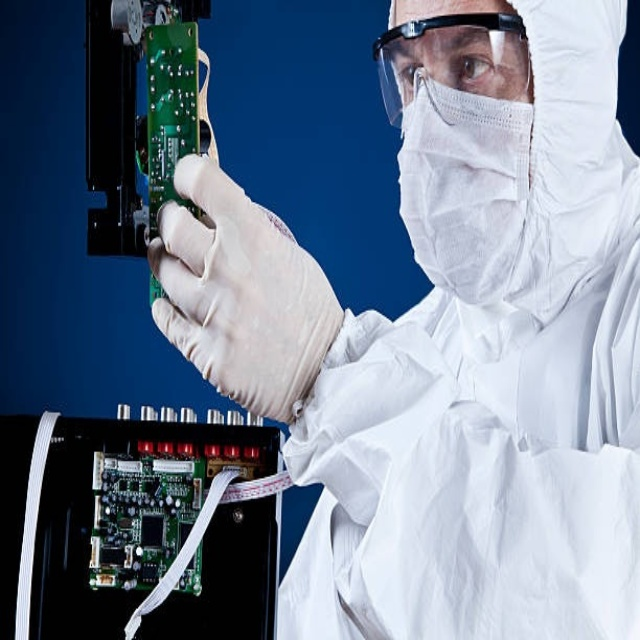Gafas: (370, 13, 529, 124)
Guantes: (148, 151, 343, 427)
Mascara: (394, 62, 540, 306)
